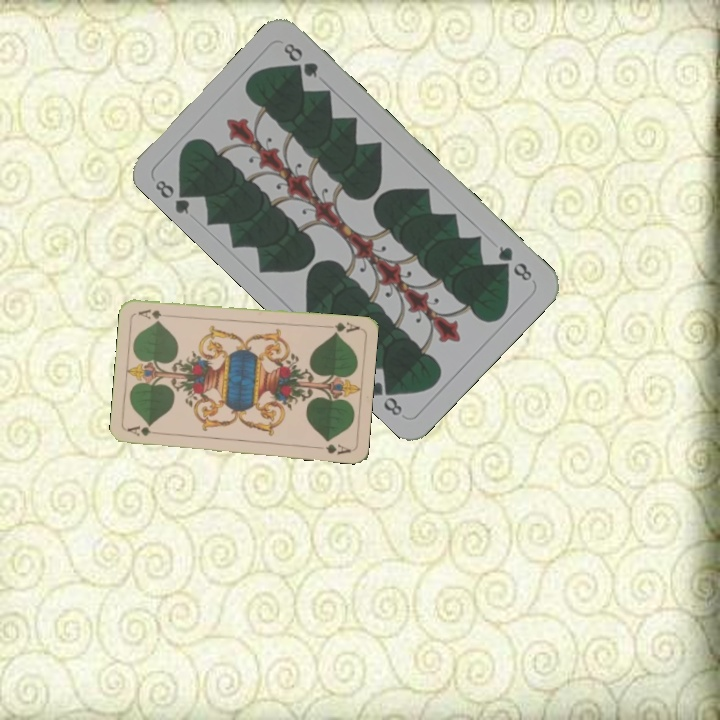G8: (151, 175, 196, 218), (493, 241, 535, 284)
GA: (322, 318, 362, 337), (124, 422, 165, 439)
